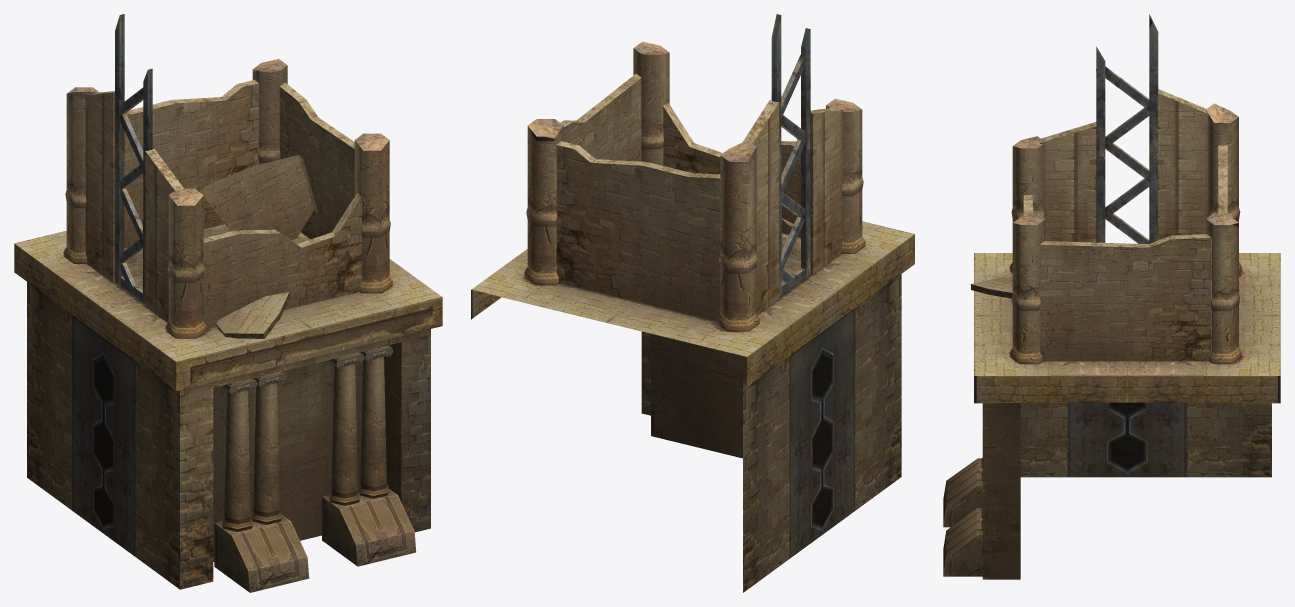
File: yw_huxiaoshamo_zhujian03.FBX
The picture shows the model from 3 angles, left to right: view 1: azimuth 30°, elevation 25°; view 2: azimuth 150°, elevation 25°; view 3: azimuth 270°, elevation 25°; orthographic projection. The views are drawn at different scales.
Parts seen in each view (by area): view 1: yw_huxiaoshamo_zhujian03; view 2: yw_huxiaoshamo_zhujian03; view 3: yw_huxiaoshamo_zhujian03.
Boxes of the visible parts, x1=… form: yw_huxiaoshamo_zhujian03: x1=14, y1=14, x2=442, y2=592; yw_huxiaoshamo_zhujian03: x1=471, y1=14, x2=914, y2=592; yw_huxiaoshamo_zhujian03: x1=943, y1=14, x2=1280, y2=579.
Size of the model in its own units: 751 by 1357 by 872.
